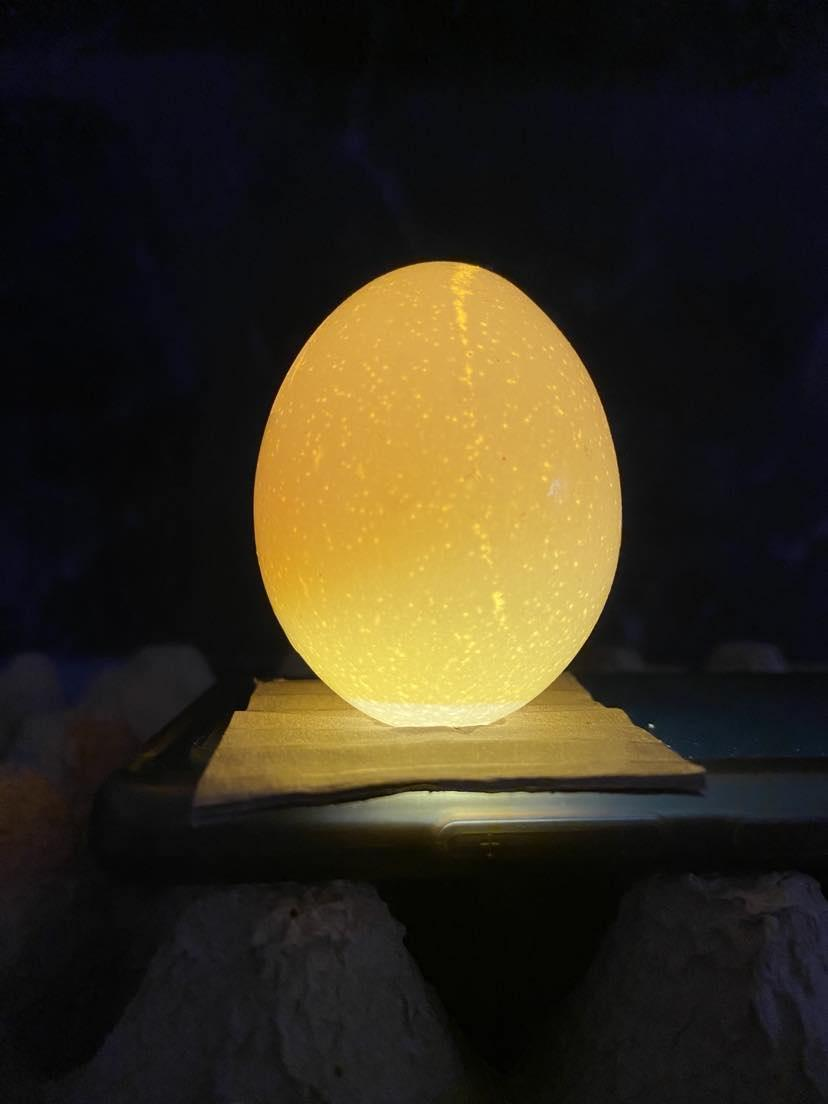B - Fair: (245, 255, 638, 745)
